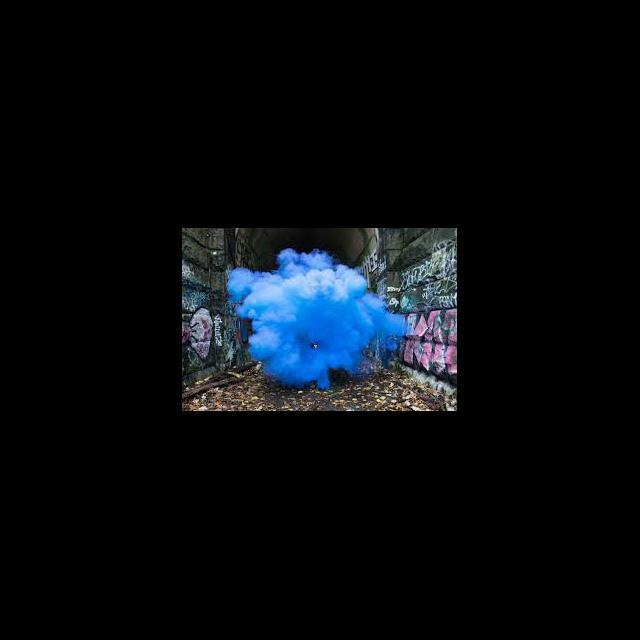Smoke: (228, 250, 407, 389)
